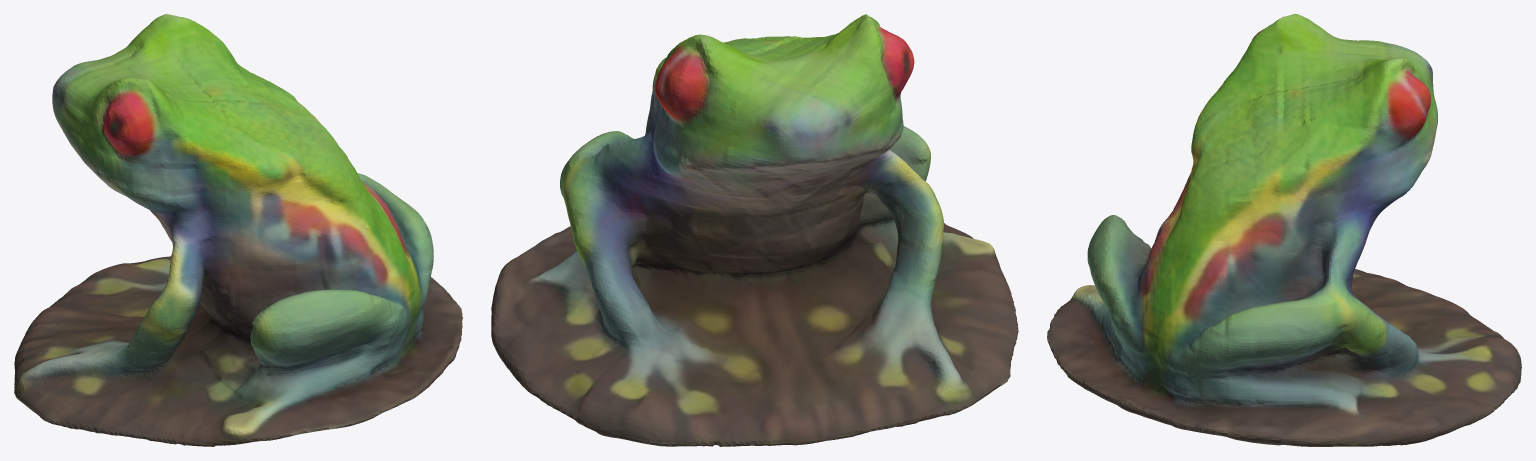
Rendered from tmesh_518.glb.
3 renders of one model, left to right at view 1: azimuth 30°, elevation 25°; view 2: azimuth 150°, elevation 25°; view 3: azimuth 270°, elevation 25°, orthographic. The views are drawn at different scales.
Visible parts, largest first — view 1: world; view 2: world; view 3: world.
Boxes of the visible parts, bbox=[...] form: world: bbox=[14, 14, 462, 446]; world: bbox=[491, 14, 1018, 446]; world: bbox=[1047, 14, 1521, 446].
Size of the model in its own units: 1.11 by 0.8045 by 1.11.
